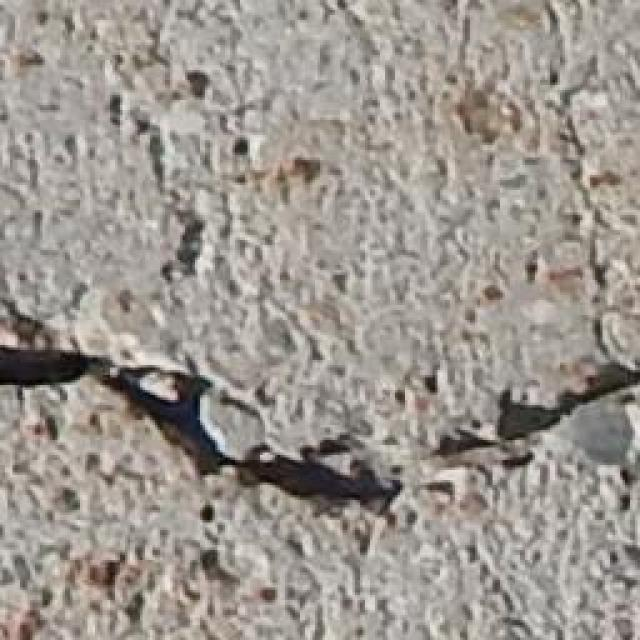concrete-crack: (0, 284, 640, 534), (541, 0, 626, 363)
